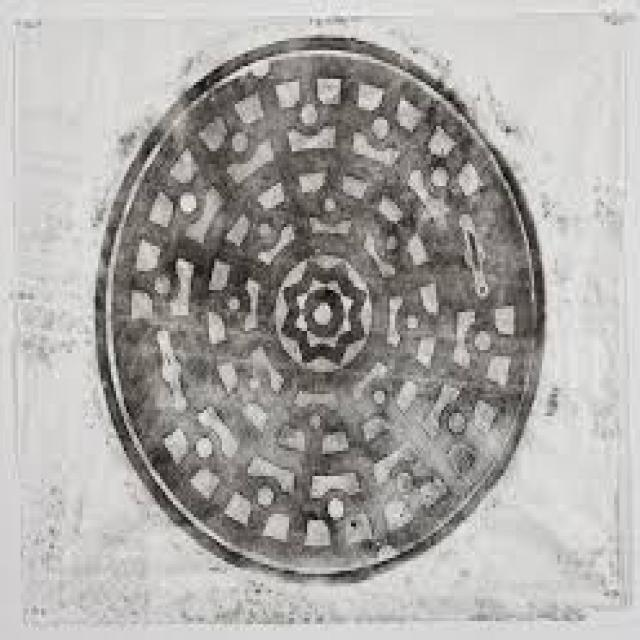Sewer Cover: (79, 27, 576, 622)
